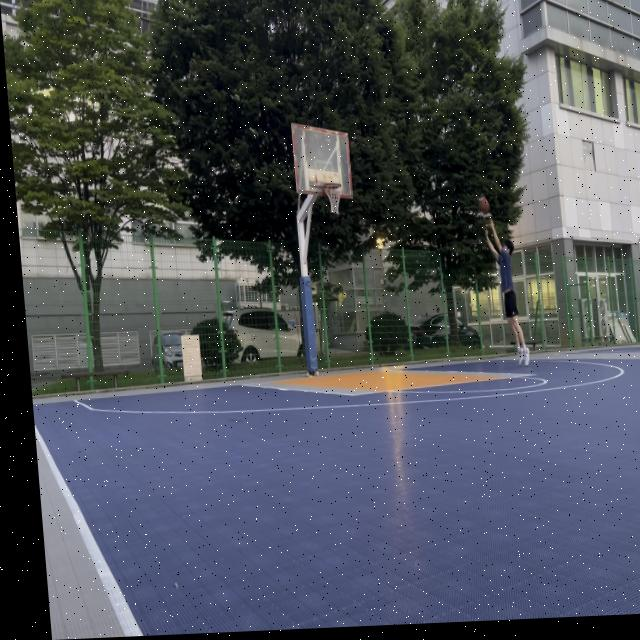basketball: (478, 195, 491, 215)
hoop: (323, 182, 344, 215)
